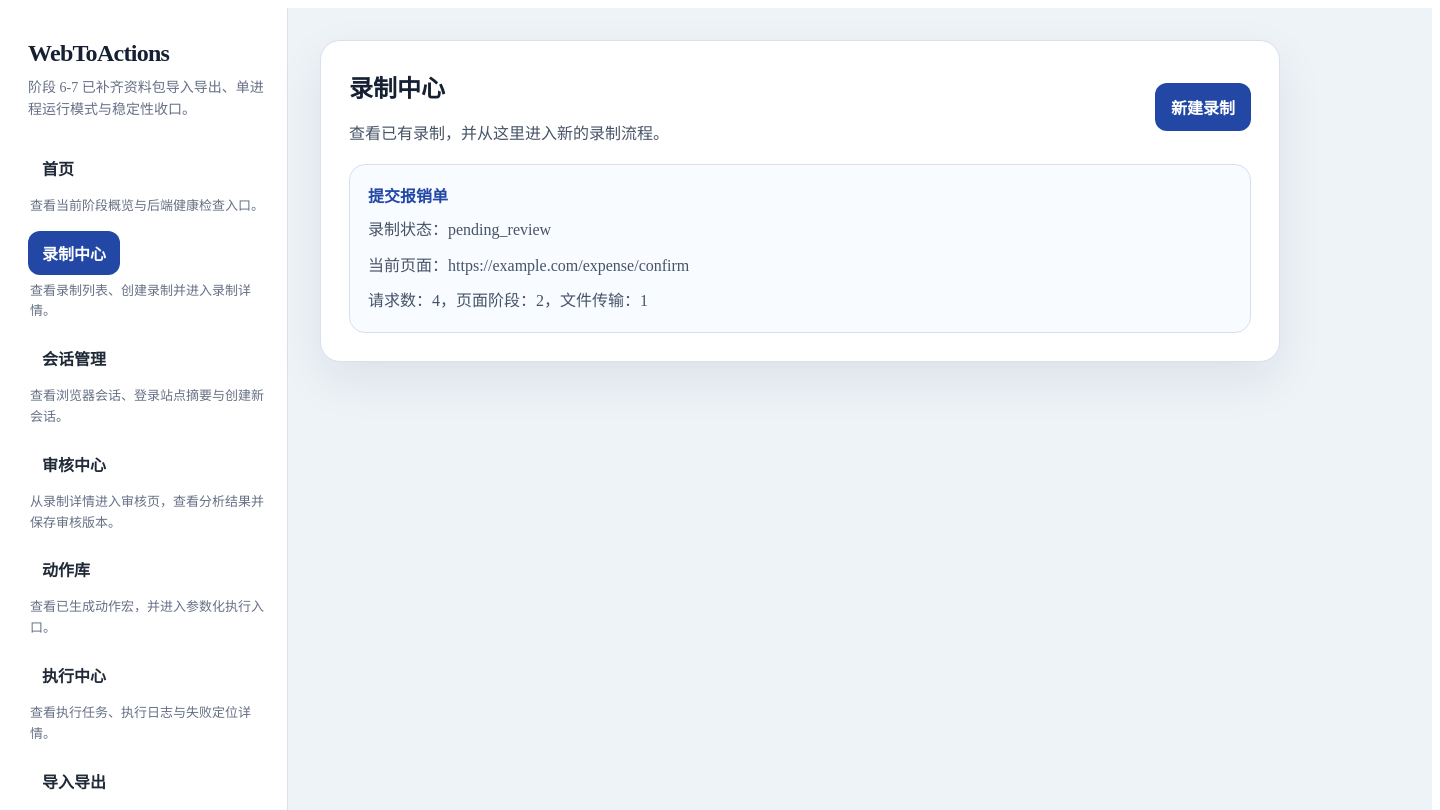
it: App › loads recordings and sessions from the stage 3 backend contracts
Expected: the link "提交报销单" is shown, 368,188 -> 448,205
Expected: the text "录制状态：pending_review" is shown, 368,221 -> 551,238
Click the link "会话管理".
click(74, 360)  # box 42,351 -> 106,368
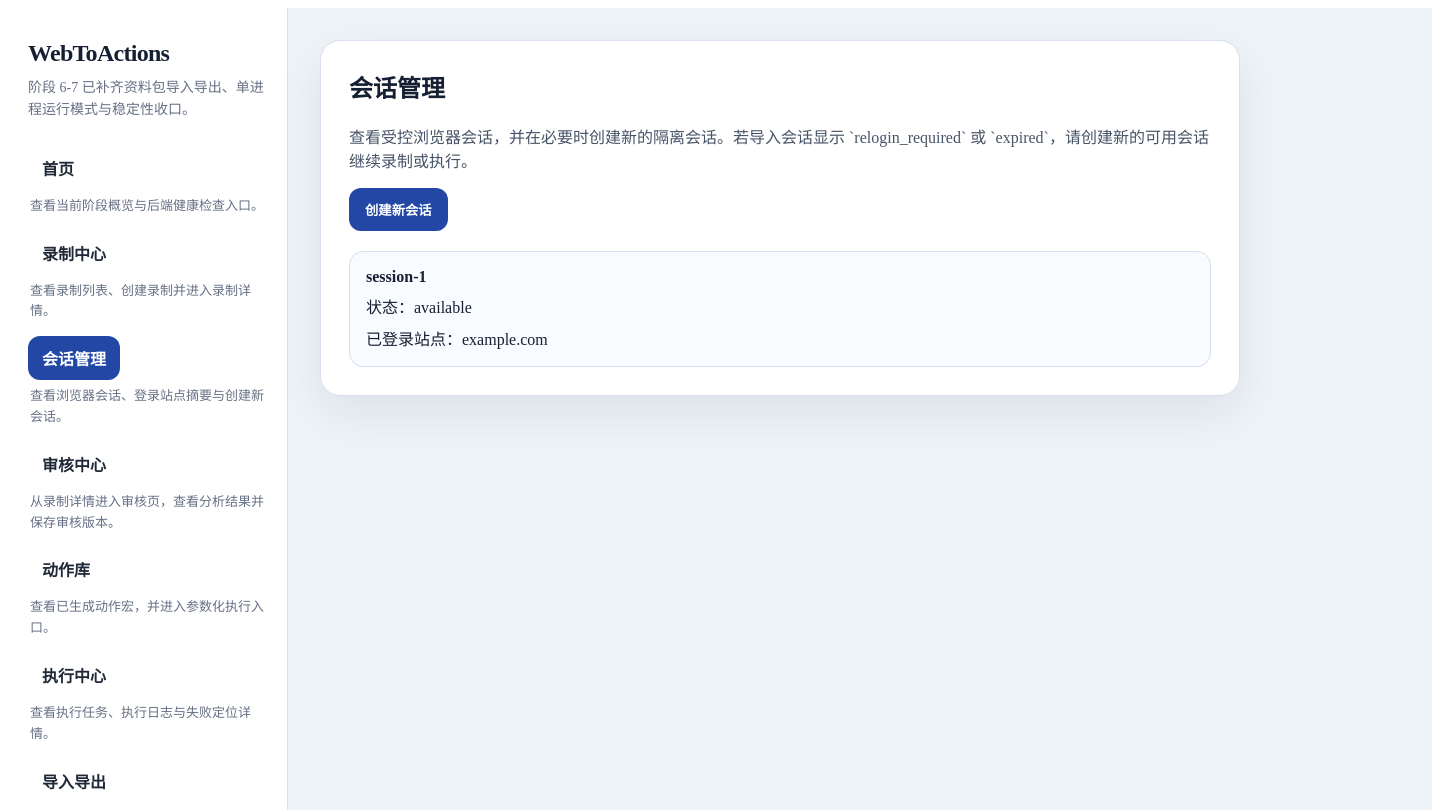
Result: the text "session-1" is shown at 366,268 -> 426,285
Result: the text "已登录站点：example.com" is shown at 366,331 -> 548,348
